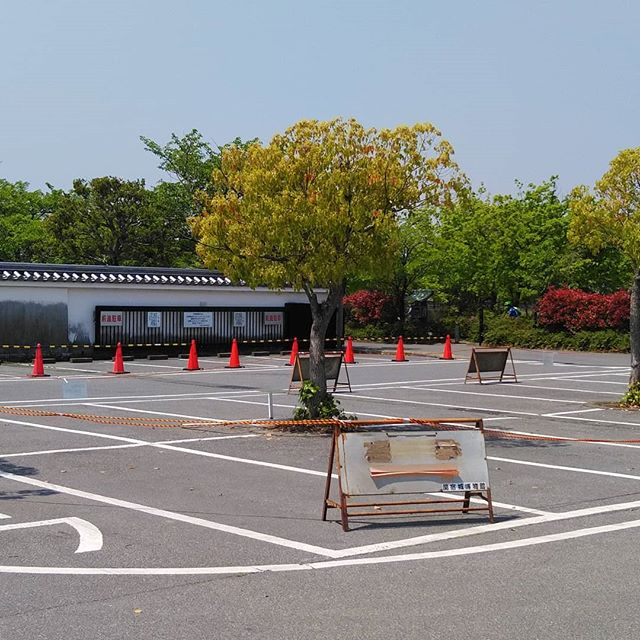building: (1, 263, 321, 353)
sign: (328, 408, 504, 519)
sky: (1, 1, 620, 161)
street: (11, 375, 640, 640)
traffic cone: (26, 339, 51, 378), (105, 339, 130, 378), (177, 334, 202, 373), (222, 331, 247, 370), (281, 330, 306, 369), (336, 329, 361, 368), (388, 327, 413, 366), (431, 327, 456, 366)
tree: (206, 94, 478, 422), (441, 172, 578, 327)
